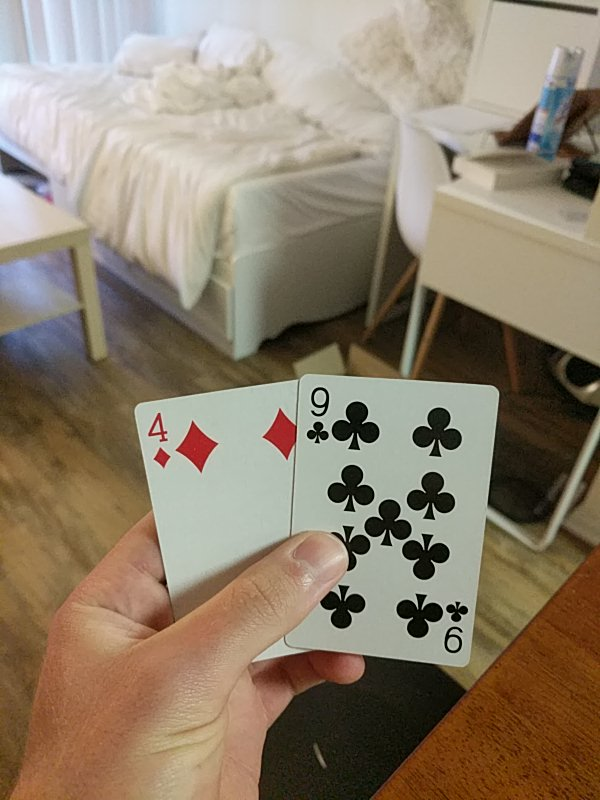Clubs: (288, 374, 497, 669)
Diamonds: (132, 382, 333, 662)
